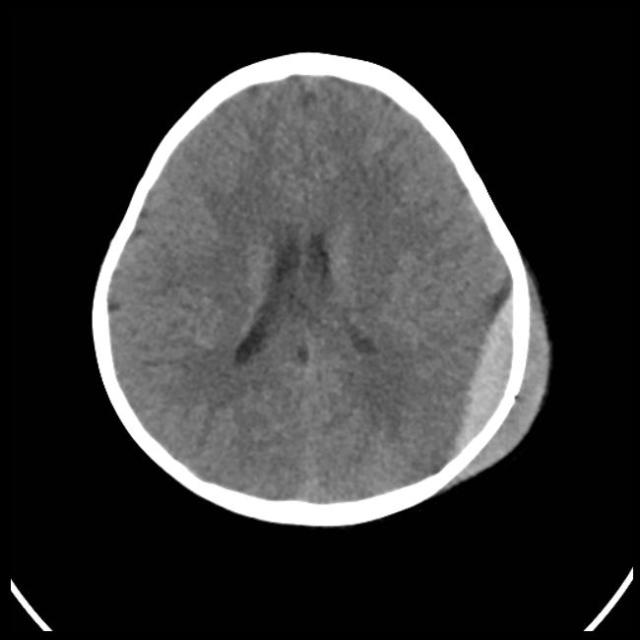lesion: (90, 52, 550, 525)
